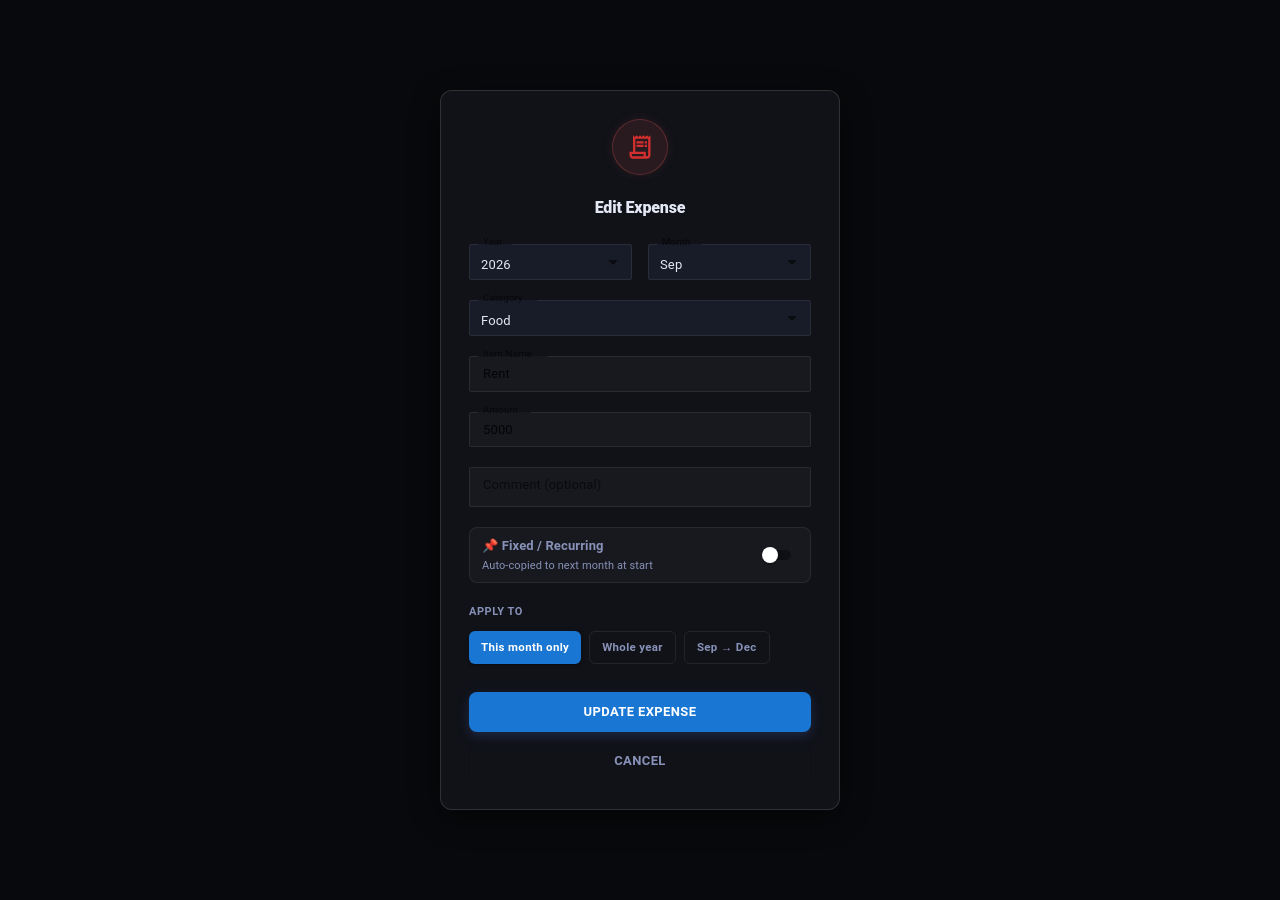
Test case: AddExpenseModal amount expressions › resolves "+200" against the amount the row opened with
Replace the text in the field labelled "Amount" with "+200" at (640, 429), box [469,412,811,447]
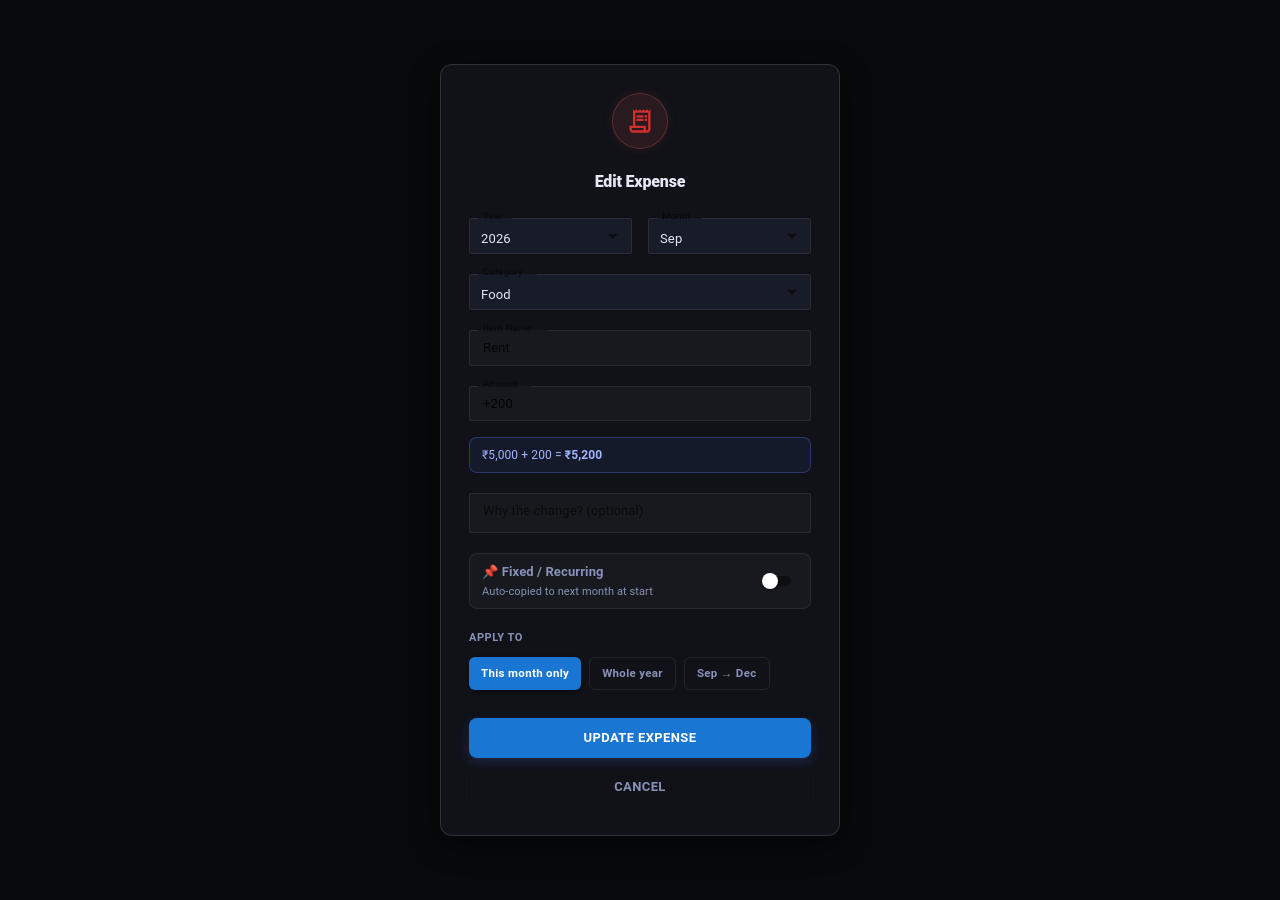
Expected: the text "₹5,200" is shown, [565,448,602,462]
